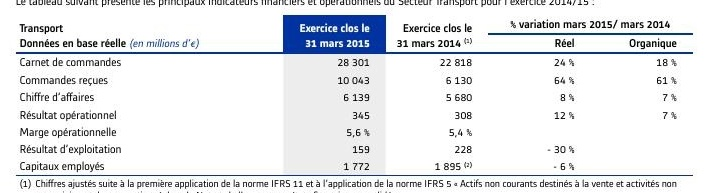table: (0, 0, 707, 193)
